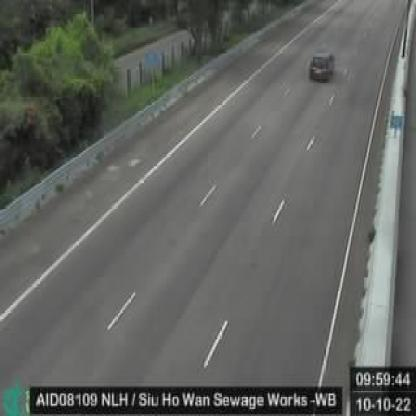Car: (310, 50, 335, 83)
